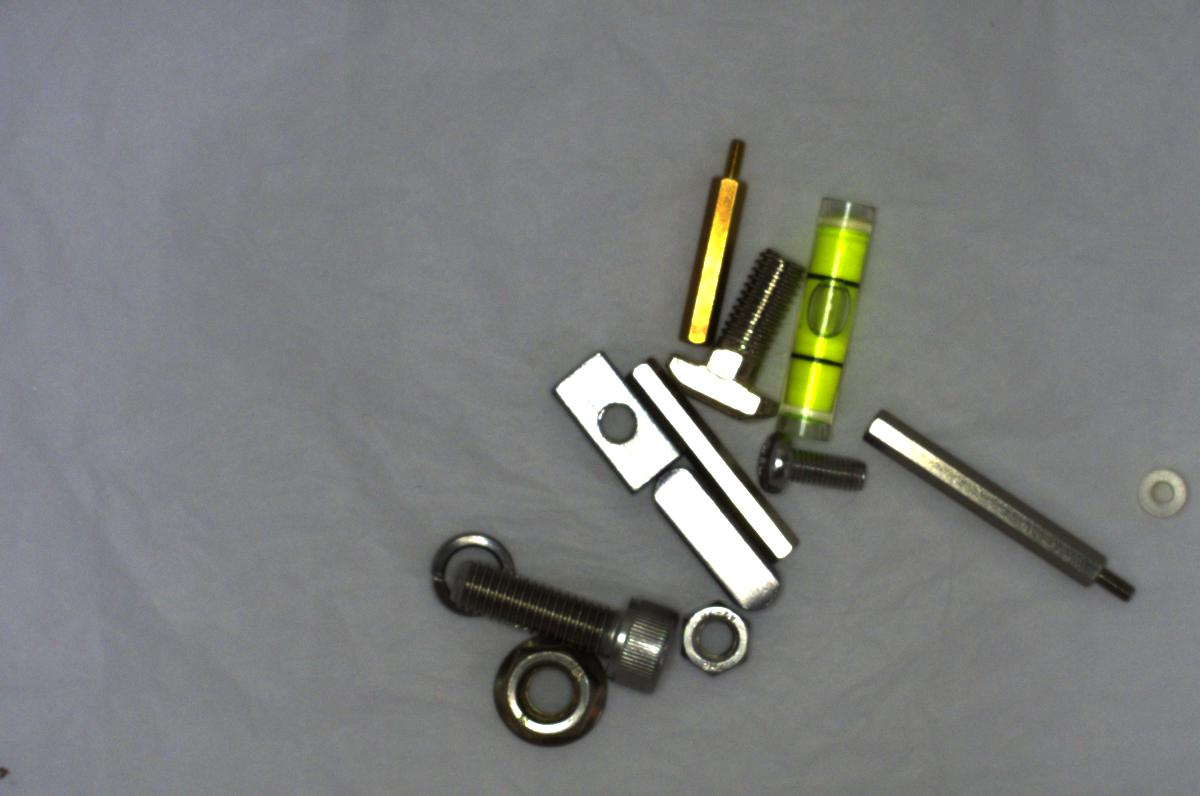Double hexagonal column: (625, 345, 808, 568)
Flange nut: (478, 630, 625, 753)
Hexagon nut: (669, 590, 753, 689)
Hexagon pillar: (670, 123, 757, 355)
Hexagon screw: (447, 560, 683, 700)
Hexagonal steel column: (860, 404, 1147, 610)
Horizontal bubble: (773, 187, 878, 441)
Keybar: (657, 462, 791, 614)
Plastic cushion pillar: (1133, 459, 1191, 527)
Rectangular nut: (550, 349, 680, 495)
Round head screw: (730, 433, 875, 499)
Spring washer: (425, 526, 521, 617)
T-shaped screw: (658, 244, 797, 419)
